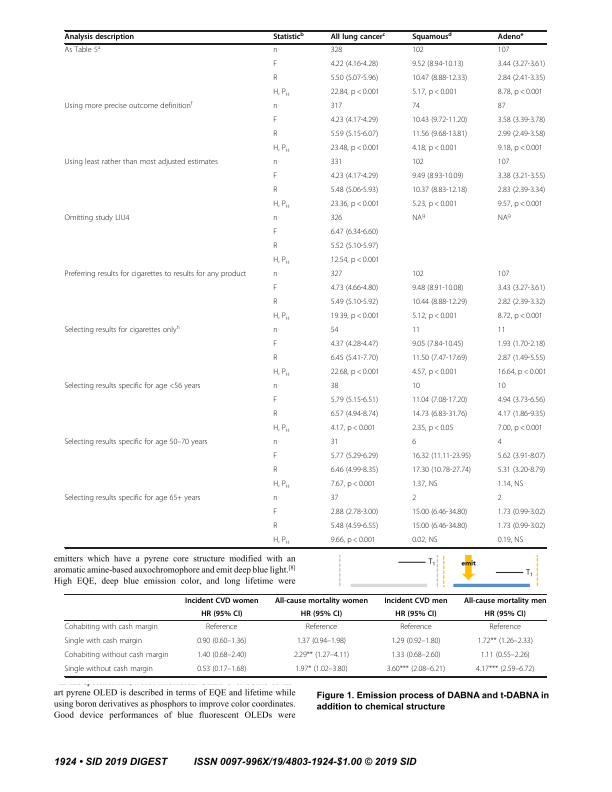borderless: (63, 29, 546, 547), (63, 592, 546, 676)
cell: (64, 270, 247, 280), (64, 158, 219, 168), (64, 100, 193, 112), (64, 438, 208, 448), (64, 324, 181, 336), (64, 382, 201, 392), (64, 494, 201, 504), (63, 650, 169, 660), (63, 622, 159, 632), (64, 664, 154, 674), (274, 596, 369, 605), (63, 636, 143, 646), (463, 596, 547, 605), (184, 596, 259, 605), (64, 214, 130, 224), (64, 33, 135, 42), (330, 31, 386, 42), (411, 452, 472, 462), (411, 466, 472, 476), (386, 664, 446, 674), (475, 664, 535, 674), (383, 596, 448, 605), (411, 74, 468, 84), (411, 116, 468, 126), (411, 130, 468, 140), (411, 186, 468, 196), (411, 298, 468, 308), (411, 354, 468, 364), (411, 396, 468, 406), (411, 410, 468, 420), (411, 508, 468, 518), (411, 522, 468, 532), (477, 636, 534, 646), (293, 650, 350, 660), (294, 664, 348, 674), (411, 60, 464, 70), (411, 172, 464, 182), (411, 284, 464, 294), (411, 340, 464, 350), (196, 636, 247, 646), (296, 636, 347, 646), (390, 636, 441, 646), (196, 650, 247, 660), (390, 650, 441, 660), (480, 650, 531, 660), (196, 664, 247, 674), (330, 88, 380, 98), (330, 144, 380, 154), (330, 200, 380, 210), (330, 256, 380, 266), (330, 312, 380, 322), (330, 368, 380, 378), (497, 368, 547, 378), (330, 60, 379, 70), (497, 60, 546, 70), (330, 74, 379, 84), (497, 74, 546, 84), (330, 116, 379, 126), (497, 116, 546, 126), (330, 130, 379, 140), (497, 130, 546, 140), (330, 172, 379, 182), (497, 172, 546, 182), (330, 186, 379, 196), (497, 186, 546, 196), (330, 228, 379, 238), (330, 242, 379, 252), (330, 284, 379, 294), (497, 284, 546, 294), (330, 298, 379, 308), (497, 298, 546, 308), (330, 340, 379, 350), (497, 340, 546, 350), (330, 354, 379, 364), (497, 354, 546, 364), (330, 396, 379, 406), (497, 396, 546, 406), (330, 410, 379, 420), (497, 410, 546, 420), (330, 452, 379, 462), (497, 452, 546, 462), (330, 466, 379, 476), (497, 466, 546, 476), (330, 508, 379, 518), (497, 508, 546, 518), (330, 522, 379, 532), (497, 522, 546, 532), (411, 88, 458, 98), (497, 88, 544, 98), (411, 144, 458, 154), (497, 144, 544, 154), (411, 200, 458, 210), (497, 200, 544, 210), (411, 312, 458, 322), (497, 312, 544, 322), (411, 368, 458, 378), (330, 424, 377, 434), (497, 424, 544, 434), (330, 480, 377, 490), (330, 536, 377, 546), (411, 31, 453, 42), (64, 44, 101, 56), (411, 424, 454, 434), (200, 609, 243, 619), (300, 609, 343, 619), (394, 609, 437, 619), (484, 609, 527, 619), (272, 31, 305, 42), (399, 622, 433, 632), (488, 622, 522, 632), (205, 622, 238, 632), (305, 622, 338, 632), (497, 31, 524, 42), (411, 480, 438, 490), (497, 480, 524, 490), (411, 536, 438, 546), (497, 536, 524, 546), (272, 88, 291, 98), (272, 144, 291, 154), (272, 200, 291, 210), (272, 256, 291, 266), (272, 312, 291, 322), (272, 368, 291, 378), (272, 424, 291, 434), (272, 480, 291, 490), (272, 536, 291, 546), (411, 212, 426, 224), (497, 212, 512, 224), (411, 46, 425, 56), (411, 158, 425, 168), (411, 270, 425, 280), (330, 46, 343, 56), (497, 46, 510, 56), (330, 102, 343, 112), (330, 158, 343, 168), (497, 158, 510, 168), (330, 214, 343, 224), (330, 270, 343, 280), (497, 270, 510, 280), (411, 102, 421, 112), (411, 326, 421, 336), (411, 382, 421, 392), (497, 102, 506, 112), (330, 326, 339, 336), (497, 326, 506, 336), (330, 382, 339, 392), (497, 382, 506, 392), (330, 438, 339, 448), (330, 494, 339, 504), (272, 46, 278, 56), (272, 60, 278, 70), (272, 74, 278, 84), (272, 102, 278, 112), (272, 116, 278, 126), (272, 130, 278, 140), (272, 158, 278, 168), (272, 172, 278, 182), (272, 186, 278, 196), (272, 214, 278, 224), (272, 228, 278, 238), (272, 242, 278, 252), (272, 270, 278, 280), (272, 284, 278, 294), (272, 298, 278, 308), (272, 326, 278, 336), (272, 340, 278, 350), (272, 354, 278, 364), (272, 382, 278, 392), (272, 396, 278, 406), (272, 410, 278, 420), (272, 438, 278, 448), (411, 438, 417, 448), (497, 438, 503, 448), (272, 452, 278, 462), (272, 466, 278, 476), (272, 494, 278, 504), (411, 494, 417, 504), (497, 494, 503, 504), (272, 508, 278, 518), (272, 522, 278, 532)
